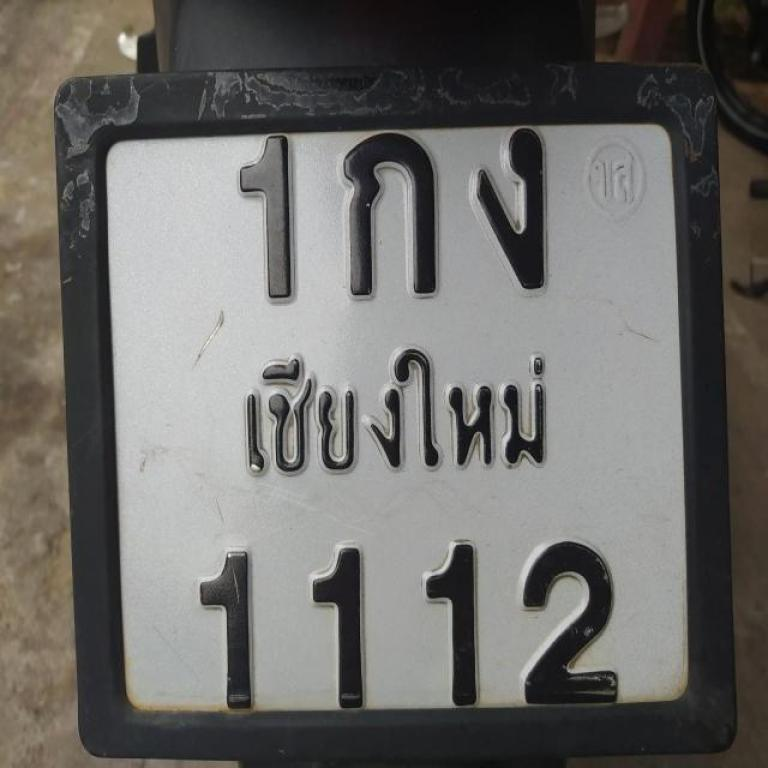license plate: (55, 64, 734, 763)
